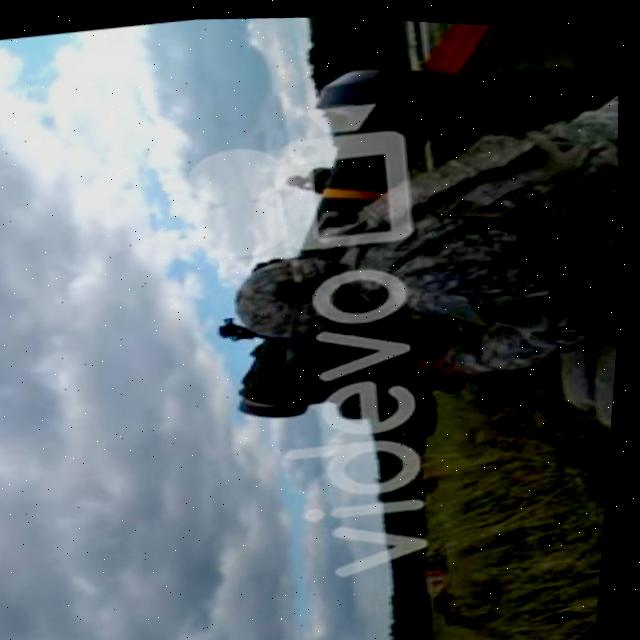rocket: (275, 39, 497, 256)
